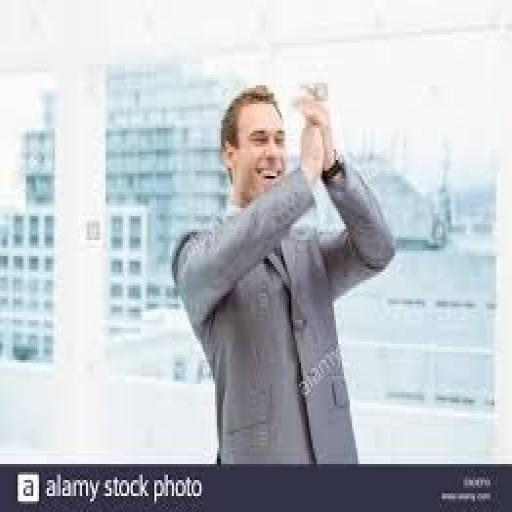clapping: (168, 80, 397, 464)
